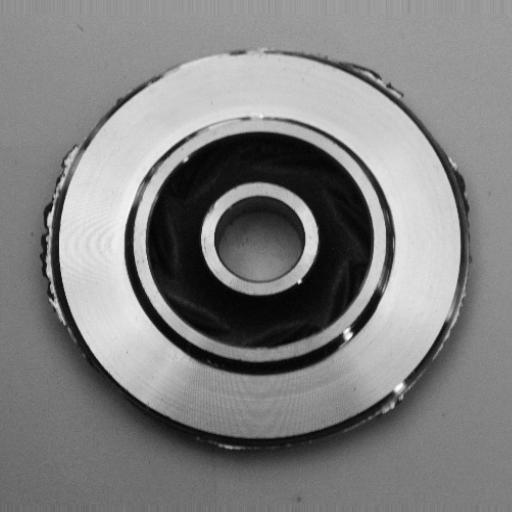casting_with_burr: (42, 45, 475, 456)
scratch: (143, 40, 271, 75), (188, 110, 291, 138)
